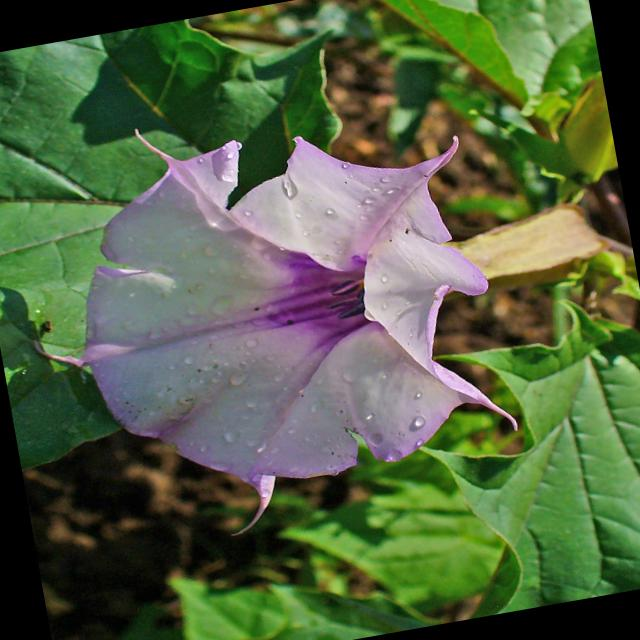Poisonous-Datura_Stramonium: (27, 71, 524, 542), (0, 0, 386, 454), (364, 291, 640, 628)
